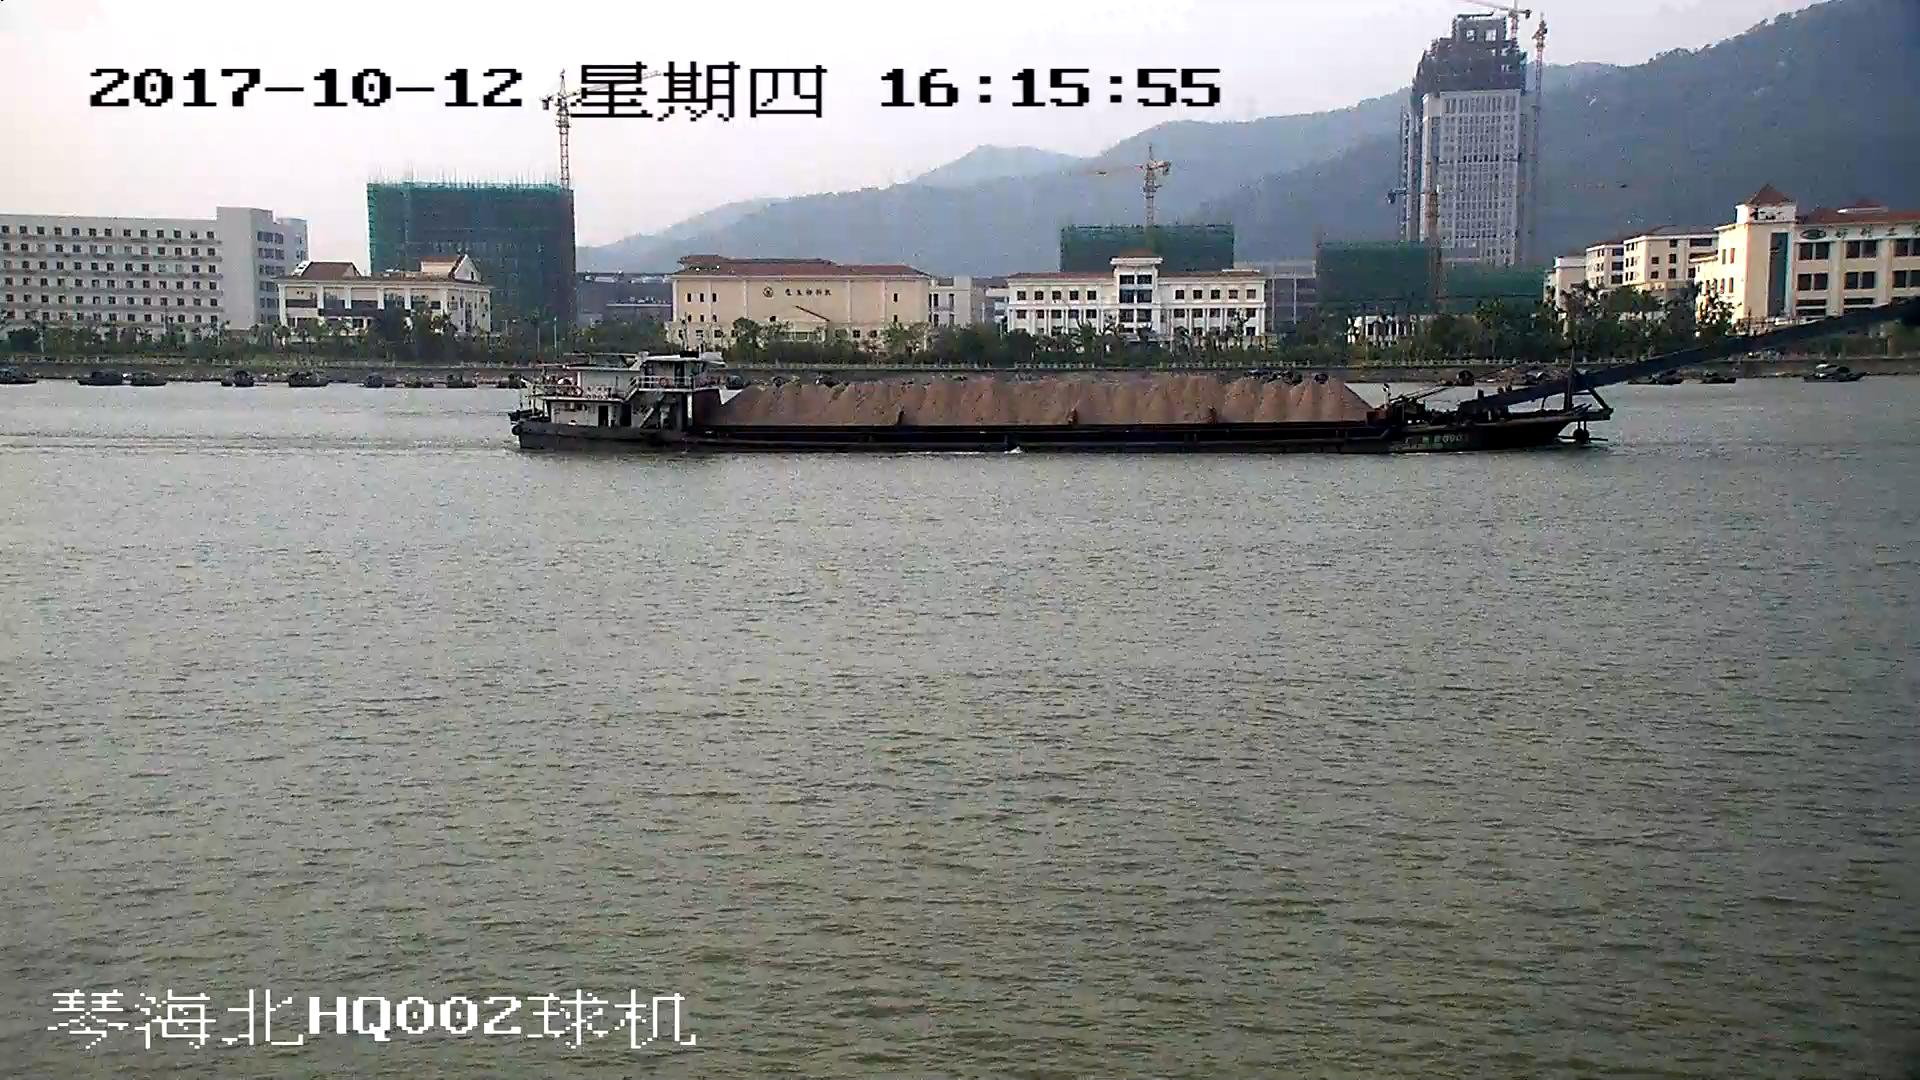ore carrier: (520, 299, 1912, 454)
